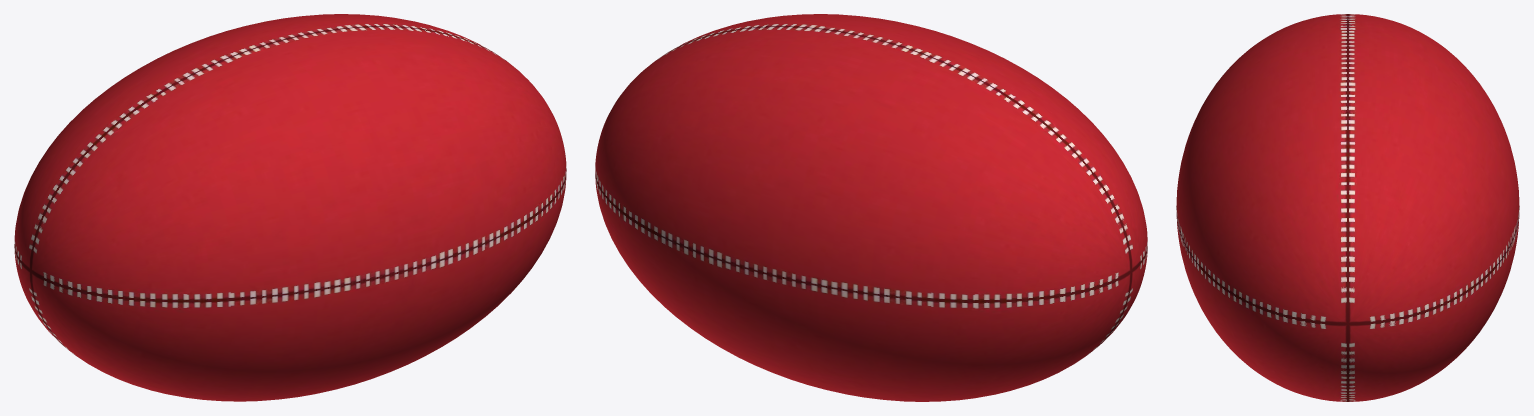
Rendered from ball-afl.glb.
The picture shows the model from 3 angles, left to right: view 1: azimuth 30°, elevation 25°; view 2: azimuth 150°, elevation 25°; view 3: azimuth 270°, elevation 25°; orthographic projection. The views are drawn at different scales.
Visible parts, largest first — view 1: Ball; view 2: Ball; view 3: Ball.
Boxes of the visible parts, x1=… form: Ball: x1=14, y1=14, x2=566, y2=401; Ball: x1=595, y1=14, x2=1147, y2=401; Ball: x1=1176, y1=14, x2=1519, y2=401.
Size of the model in its own units: 0.28 by 0.175 by 0.175.
2 materials, 2 textured.
